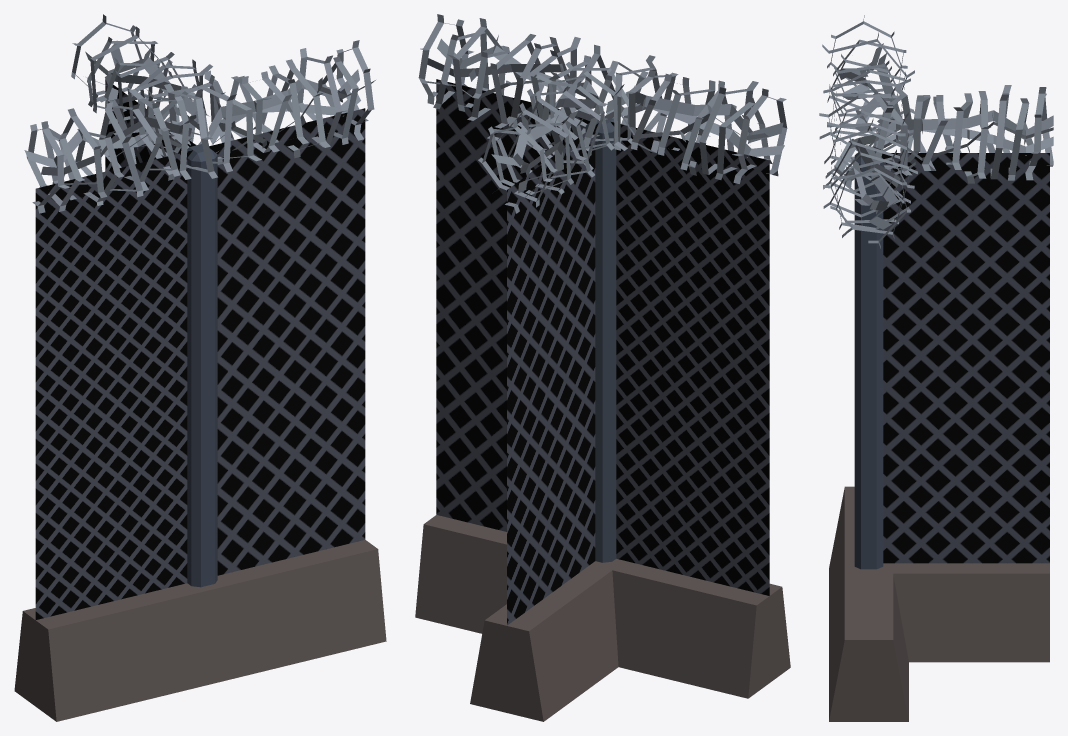
File: fence_T.glb
The picture shows the model from 3 angles, left to right: view 1: azimuth 30°, elevation 25°; view 2: azimuth 150°, elevation 25°; view 3: azimuth 270°, elevation 25°; orthographic projection. The views are drawn at different scales.
Visible parts, largest first — view 1: Cube.010; view 2: Cube.010; view 3: Cube.010.
Boxes of the visible parts, box(x1,y1,x2,y2) form: Cube.010: box(14, 14, 386, 721); Cube.010: box(415, 14, 790, 721); Cube.010: box(819, 15, 1053, 721).
Size of the model in its own units: 4.08 by 6.78 by 2.59.
4 materials, 1 textured.
